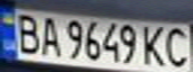4: (100, 20, 121, 63)
6: (81, 18, 103, 62)
9: (118, 21, 142, 65), (60, 17, 84, 60)
A: (36, 14, 63, 56)
B: (9, 10, 42, 55)
C: (160, 24, 193, 70)
K: (139, 22, 169, 68)
